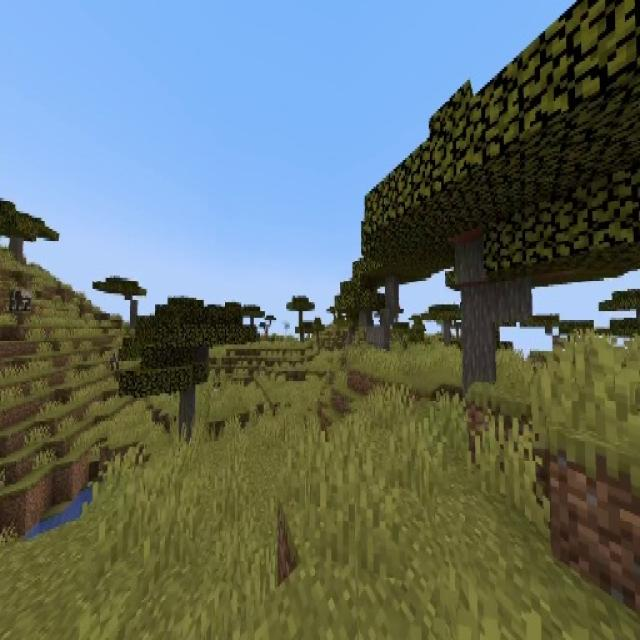acacia: (366, 1, 636, 392), (120, 294, 256, 444), (352, 237, 436, 353), (92, 277, 146, 332)
acacia_log: (458, 246, 498, 390), (379, 280, 397, 356), (180, 390, 196, 441)
